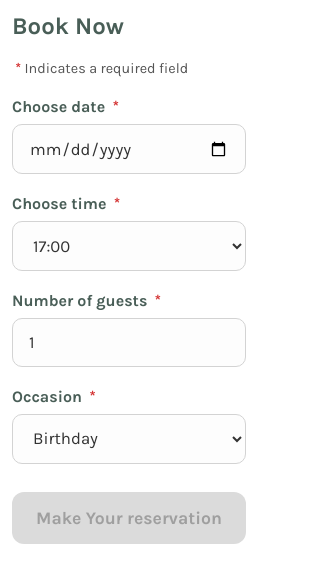
Scenario: BookingForm Component › Paso 2: React Client-Side Validation States › Submit button becomes enabled when all inputs have valid values
This screenshot has width=332, height=561.
In the date field labelled "Choose date *": (129, 149) top-left (12, 124), bottom-right (246, 174), type "2026-10-15"
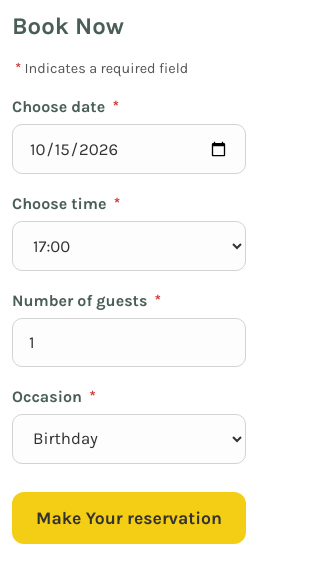
Check: the button with aria-label "On Click" is enabled, box top-left (12, 492), bottom-right (246, 544)
